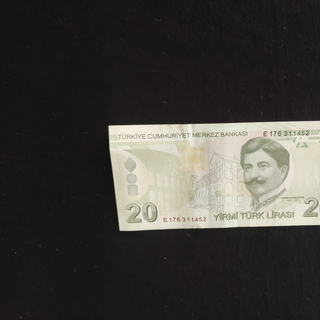20TLBack: (107, 119, 320, 232)
